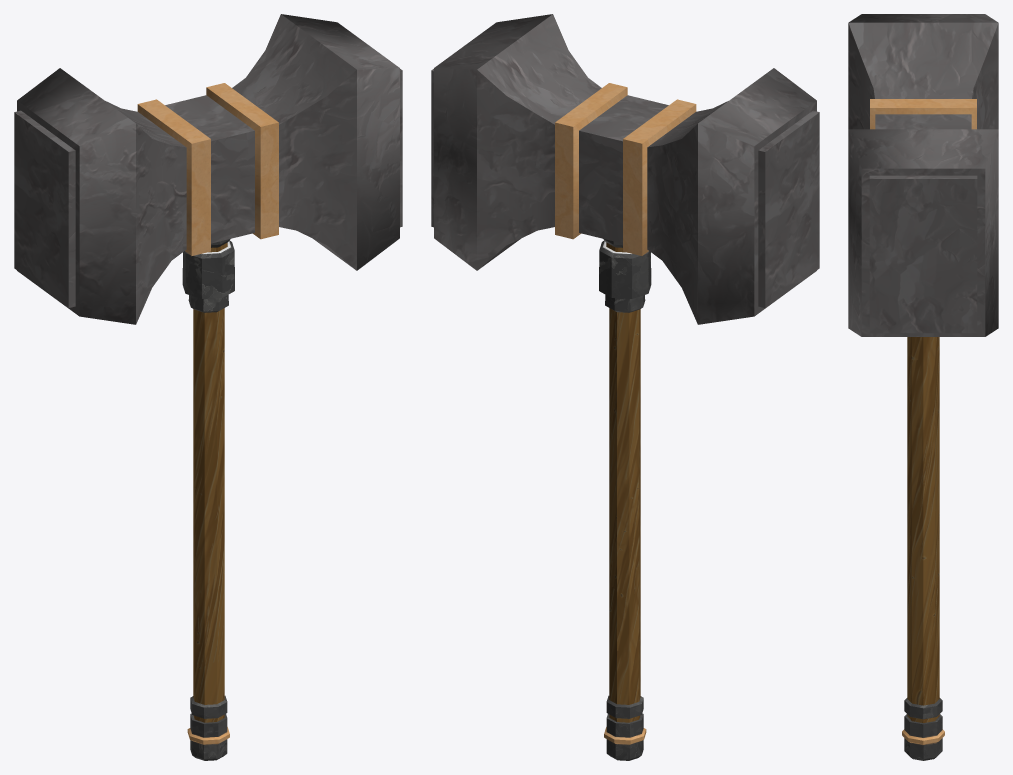
The model's file is practice_hammerTexture.glb.
3 views of the same model, side by side, from view 1: azimuth 30°, elevation 25°; view 2: azimuth 150°, elevation 25°; view 3: azimuth 270°, elevation 25° (orthographic).
Parts seen in each view (by area): view 1: pMainHead, pLongWood, pMetal, pMetalBand1, pMetalBand0; view 2: pMainHead, pLongWood, pMetal, pMetalBand1, pMetalBand0; view 3: pMainHead, pLongWood, pMetal, pMetalBand1.
Part boxes in pixels (x1,y1,x2,y2): pMainHead: (14,14,402,324); pLongWood: (193,308,224,704); pMetal: (182,239,234,760); pMetalBand1: (137,99,210,255); pMetalBand0: (206,83,278,239); pMainHead: (431,14,819,324); pLongWood: (609,308,640,704); pMetal: (599,239,651,760); pMetalBand1: (623,99,696,255); pMetalBand0: (555,83,627,239); pMainHead: (848,14,998,336); pLongWood: (907,337,939,705); pMetal: (902,698,944,760); pMetalBand1: (870,99,976,129).
Size of the model in its own units: 0.049 by 0.0965 by 0.0193.
1 material, 1 textured.
